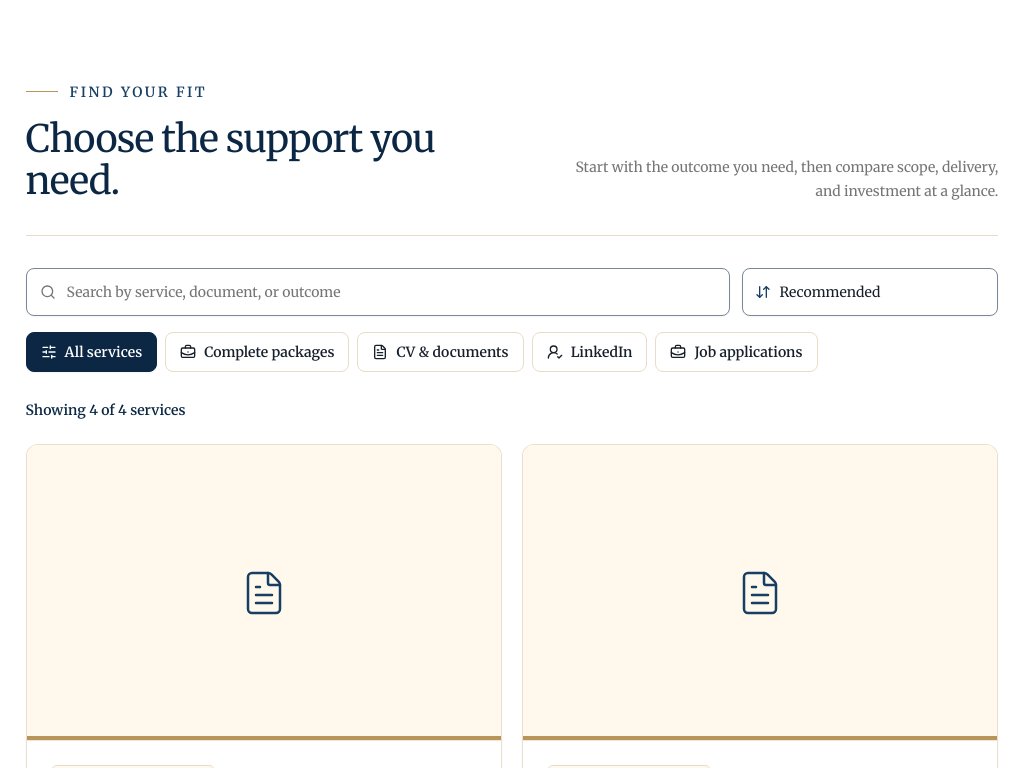
Package selection experience › updates shareable filters, announces empty results and resets without deleting unrelated URL data
Click the button "LinkedIn": click(590, 352) [532,332,647,372]
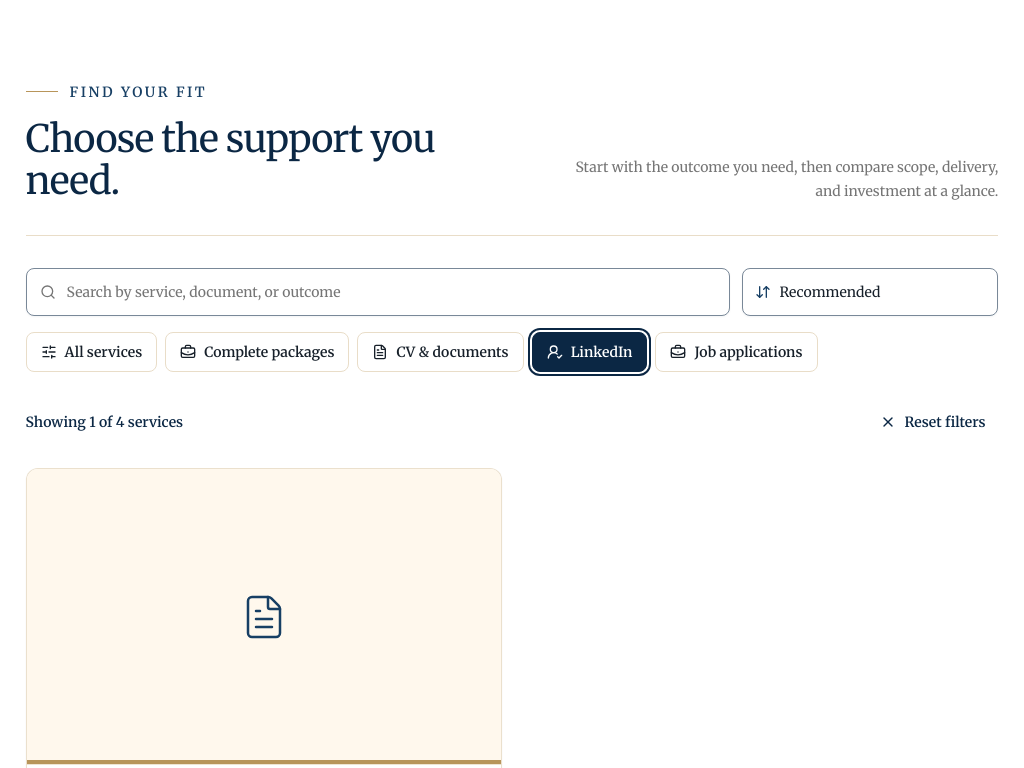
Check: the message shows "Showing 1 of 4", box [26,412,183,432]
In the search field: (378, 292) [26,268,730,316], type "unavailable"
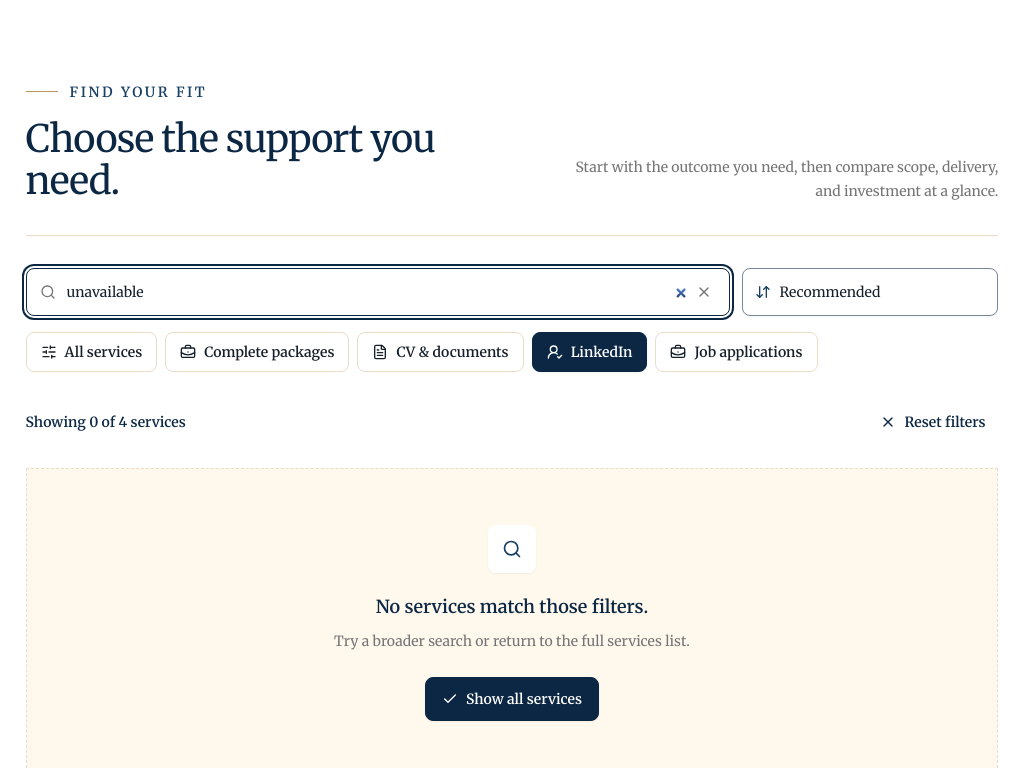
Check: the heading "No services match those filters." is shown, box [376,595,648,618]
Click the button "Show all services": click(512, 699) [425,677,599,721]
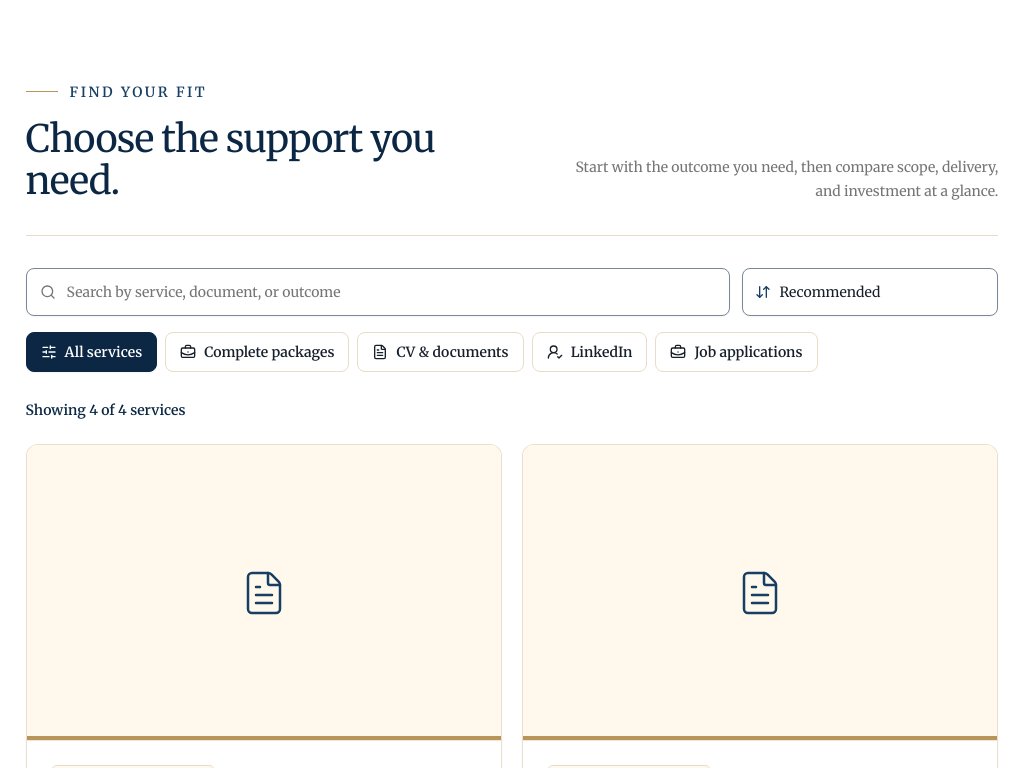
Check: the message shows "Showing 4 of 4", box [26,400,186,420]
